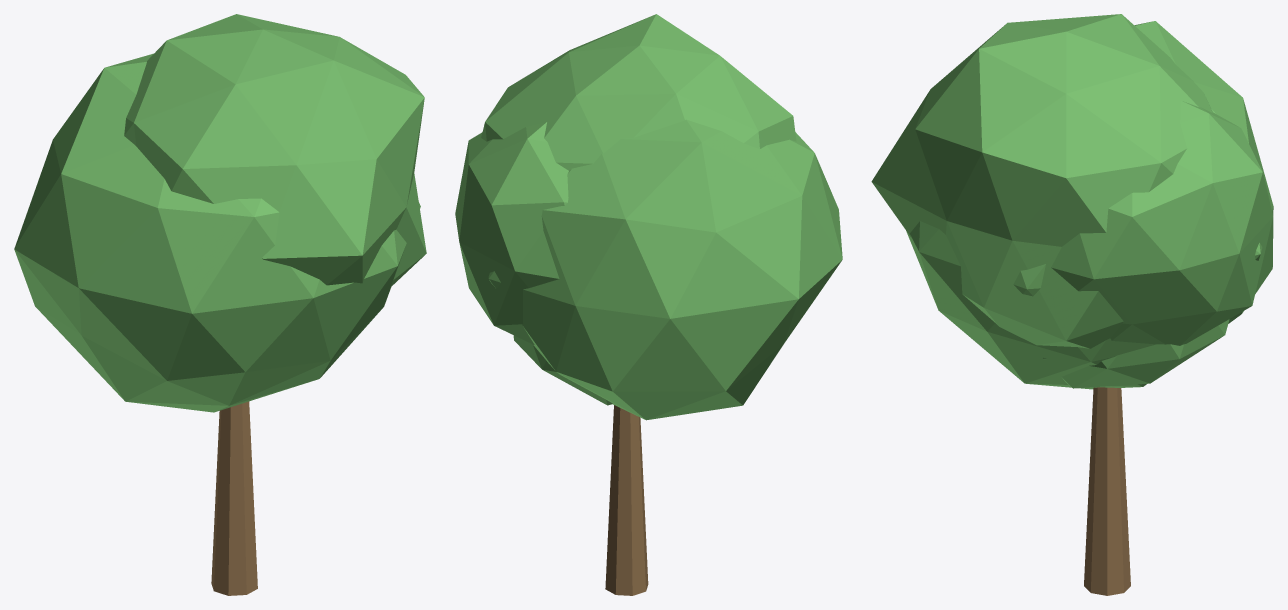
The model's file is oak_tree_2.glb.
3 renders of one model, left to right at view 1: azimuth 30°, elevation 25°; view 2: azimuth 150°, elevation 25°; view 3: azimuth 270°, elevation 25°, orthographic. The views are drawn at different scales.
Parts seen in each view (by area): view 1: oak_tree_2_canopy_2, oak_tree_2_canopy_3, oak_tree_2_trunk; view 2: oak_tree_2_canopy_2, oak_tree_2_canopy_3, oak_tree_2_canopy_1, oak_tree_2_trunk, oak_tree_2_canopy_0; view 3: oak_tree_2_canopy_3, oak_tree_2_canopy_1, oak_tree_2_canopy_2, oak_tree_2_trunk, oak_tree_2_canopy_0.
Part boxes in pixels (<box>): oak_tree_2_canopy_2: <box>14,53,420,412</box>; oak_tree_2_canopy_3: <box>124,14,426,285</box>; oak_tree_2_trunk: <box>211,401,257,595</box>; oak_tree_2_canopy_2: <box>488,119,842,420</box>; oak_tree_2_canopy_3: <box>481,14,796,170</box>; oak_tree_2_canopy_1: <box>455,122,568,344</box>; oak_tree_2_trunk: <box>605,405,648,595</box>; oak_tree_2_canopy_0: <box>513,335,612,405</box>; oak_tree_2_canopy_3: <box>871,14,1212,348</box>; oak_tree_2_canopy_1: <box>1051,100,1273,345</box>; oak_tree_2_canopy_2: <box>906,21,1273,389</box>; oak_tree_2_trunk: <box>1084,387,1130,595</box>; oak_tree_2_canopy_0: <box>1042,319,1229,388</box>.
Size of the model in its own units: 5.09 by 7.47 by 4.88.
